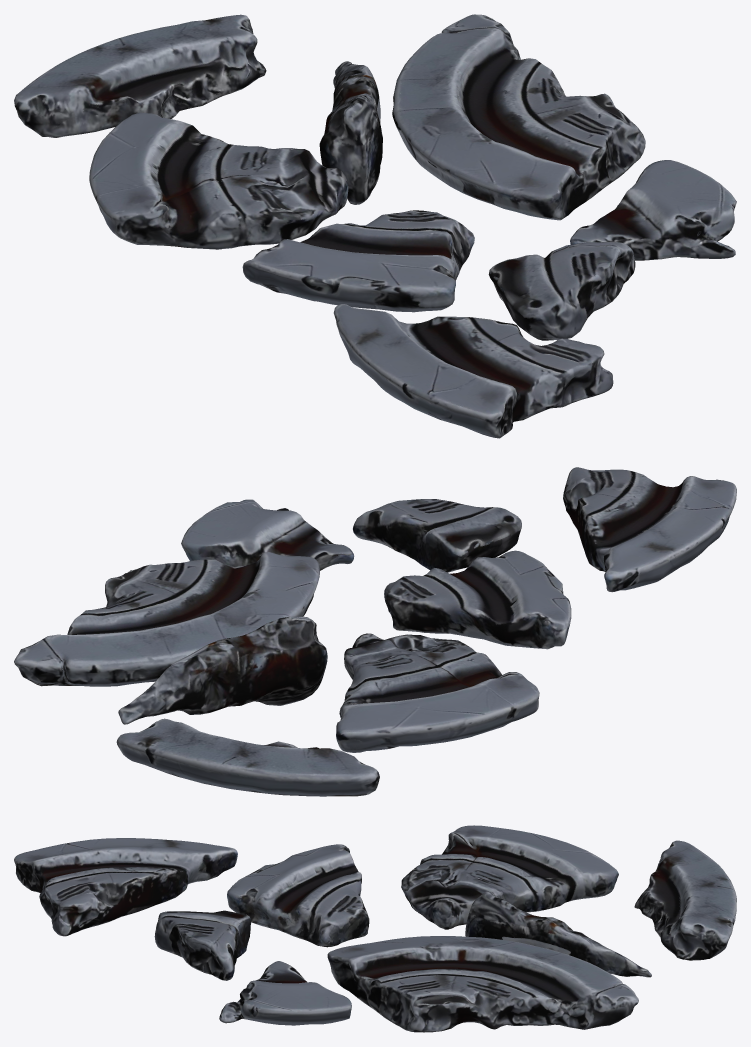
The model's file is MetalRing.fbx.
The picture shows the model from 3 angles, top to bottom: view 1: azimuth 30°, elevation 25°; view 2: azimuth 150°, elevation 25°; view 3: azimuth 270°, elevation 25°; orthographic projection. The views are drawn at different scales.
Visible parts, largest first — view 1: tripo_node_c2cf2697; view 2: tripo_node_c2cf2697; view 3: tripo_node_c2cf2697.
Boxes of the visible parts, x1,y1,x2,y2 form: tripo_node_c2cf2697: (14,14,736,438); tripo_node_c2cf2697: (14,467,736,796); tripo_node_c2cf2697: (14,825,736,1032).
Size of the model in its own units: 0.6022 by 0.1113 by 0.9978.
Materials: 1 (1 with a texture image).
